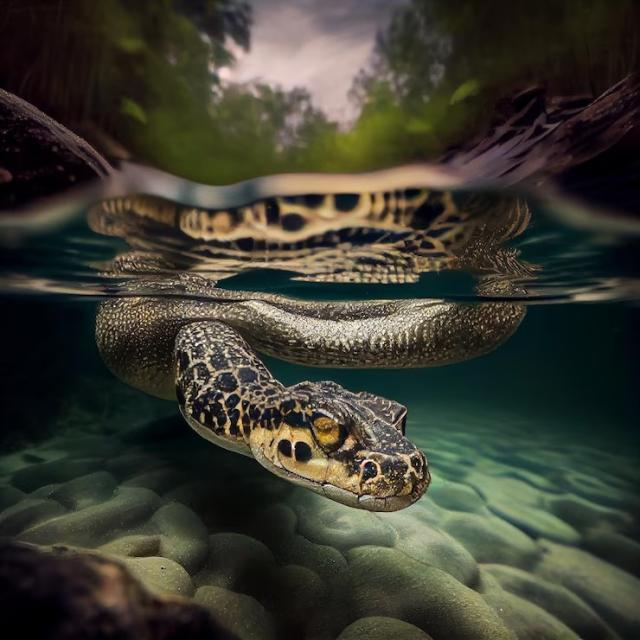Snake: (81, 260, 548, 530)
